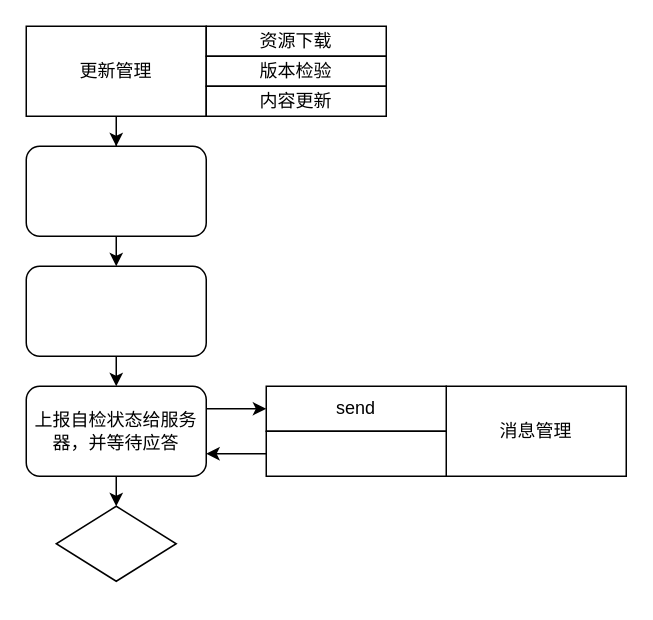
Some shapes in this 653 by 620 pixel diagram are drawn without their labels. The shapes that lost their labels are listed below. From the top down, each one's centre as x and y in pixels, then its label:
[115,190]: 流程
[115,310]: 程序启动时自检 定时自检
[355,453]: recv
[115,543]: 需更新
